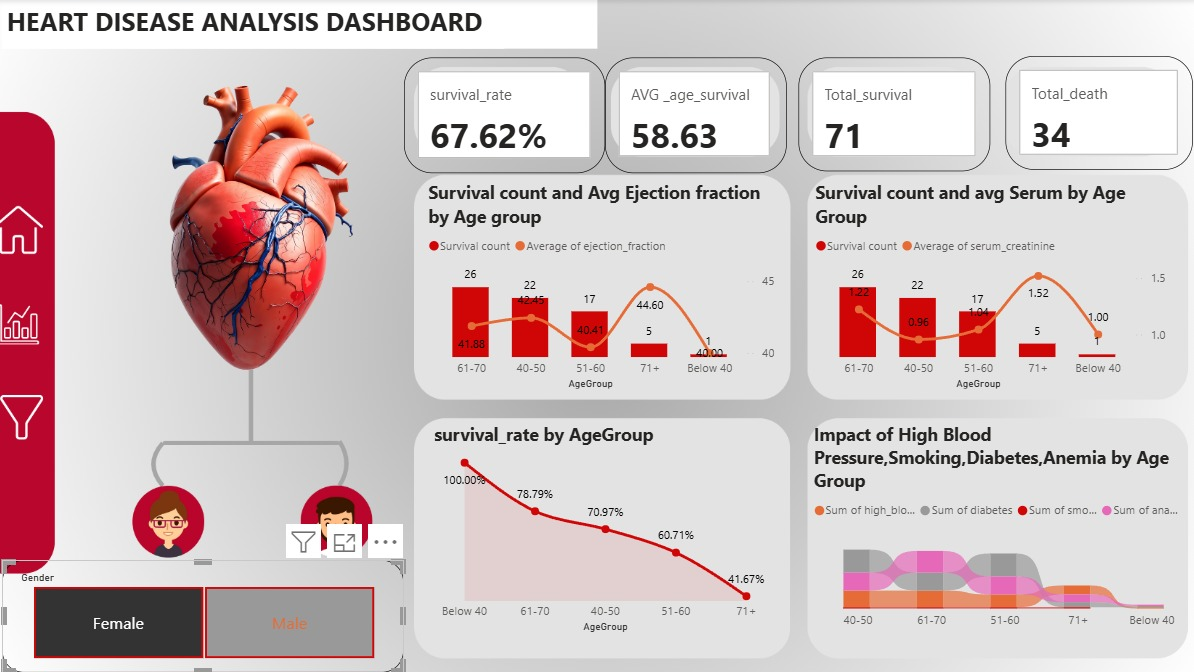

The page's visual inventory and layout, read from the dashboard file:
{"tool":"powerbi","page":{"name":"Heart disease analysis","canvas":[1280,720],"ordinal":0},"visuals":[{"type":"textbox","box":[9.4,0,631.2,52.9],"z":0},{"type":"cardVisual","fields":{"Data":["heart_Disease_clinical_records_.survival_rate"]},"box":[435.8,62,213.1,122.5],"z":1},{"type":"cardVisual","fields":{"Data":["heart_Disease_clinical_records_.AVG _age_survival"]},"box":[649,62,192.5,122.5],"z":2},{"type":"cardVisual","fields":{"Data":["heart_Disease_clinical_records_.Total_surviour"]},"box":[854.2,62,203.6,120.9],"z":3},{"type":"cardVisual","fields":{"Data":["heart_Disease_clinical_records_.Total_death"]},"box":[1073.7,60.4,198.8,120.9],"z":4},{"type":"textbox","box":[9.5,0,532.9,52.5],"z":5},{"type":"lineClusteredColumnComboChart","title":"Survival count and avg Serum by Age  Group","fields":{"Category":["heart_Disease_clinical_records_.AgeGroup"],"Y":["CountNonNull(heart_Disease_clinical_records_.DEATH_EVENT)"],"Y2":["Avg(heart_Disease_clinical_records_.serum_creatinine)"]},"box":[866.9,192.5,381.7,225.9],"z":6},{"type":"lineClusteredColumnComboChart","title":"Survival count and Avg Ejection fraction by Age group","fields":{"Category":["heart_Disease_clinical_records_.AgeGroup"],"Y":["CountNonNull(heart_Disease_clinical_records_.DEATH_EVENT)"],"Y2":["Avg(heart_Disease_clinical_records_.ejection_fraction)"]},"box":[456.5,192.5,377,225.9],"z":7},{"type":"lineChart","fields":{"Category":["heart_Disease_clinical_records_.AgeGroup"],"Y":["heart_Disease_clinical_records_.survival_rate"]},"box":[462.9,448.6,370.6,227.5],"z":8},{"type":"ribbonChart","title":"Impact of High Blood Pressure,Smoking,Diabetes,Anemia by Age Group","fields":{"Category":["heart_Disease_clinical_records_.AgeGroup"],"Y":["Sum(heart_Disease_clinical_records_.high_blood_pressure)","Sum(heart_Disease_clinical_records_.diabetes)","Sum(heart_Disease_clinical_records_.smoking)","Sum(heart_Disease_clinical_records_.anaemia)"]},"box":[865.3,448.6,415.1,227.5],"z":9},{"type":"slicer","fields":{"Values":["heart_Disease_clinical_records_.Gender"]},"box":[9.5,594.9,426.3,119.3],"z":10}]}

Visuals, with their boxes on the page's 1280x720 design canvas (x1, y1, x2, y2). These are canvas units, not pixel positions in the 1194x672 screenshot, which may show the page scaled, cropped or inside an application window:
textbox: rect(9, 0, 641, 53)
cardVisual - heart_Disease_clinical_records_.survival_rate: rect(436, 62, 649, 184)
cardVisual - heart_Disease_clinical_records_.AVG _age_survival: rect(649, 62, 842, 184)
cardVisual - heart_Disease_clinical_records_.Total_surviour: rect(854, 62, 1058, 183)
cardVisual - heart_Disease_clinical_records_.Total_death: rect(1074, 60, 1272, 181)
textbox: rect(10, 0, 542, 52)
"Survival count and avg Serum by Age  Group" lineClusteredColumnComboChart: rect(867, 192, 1249, 418)
"Survival count and Avg Ejection fraction by Age group" lineClusteredColumnComboChart: rect(456, 192, 834, 418)
lineChart - heart_Disease_clinical_records_.AgeGroup x heart_Disease_clinical_records_.survival_rate: rect(463, 449, 834, 676)
"Impact of High Blood Pressure,Smoking,Diabetes,Anemia by Age Group" ribbonChart: rect(865, 449, 1280, 676)
slicer - heart_Disease_clinical_records_.Gender: rect(10, 595, 436, 714)
